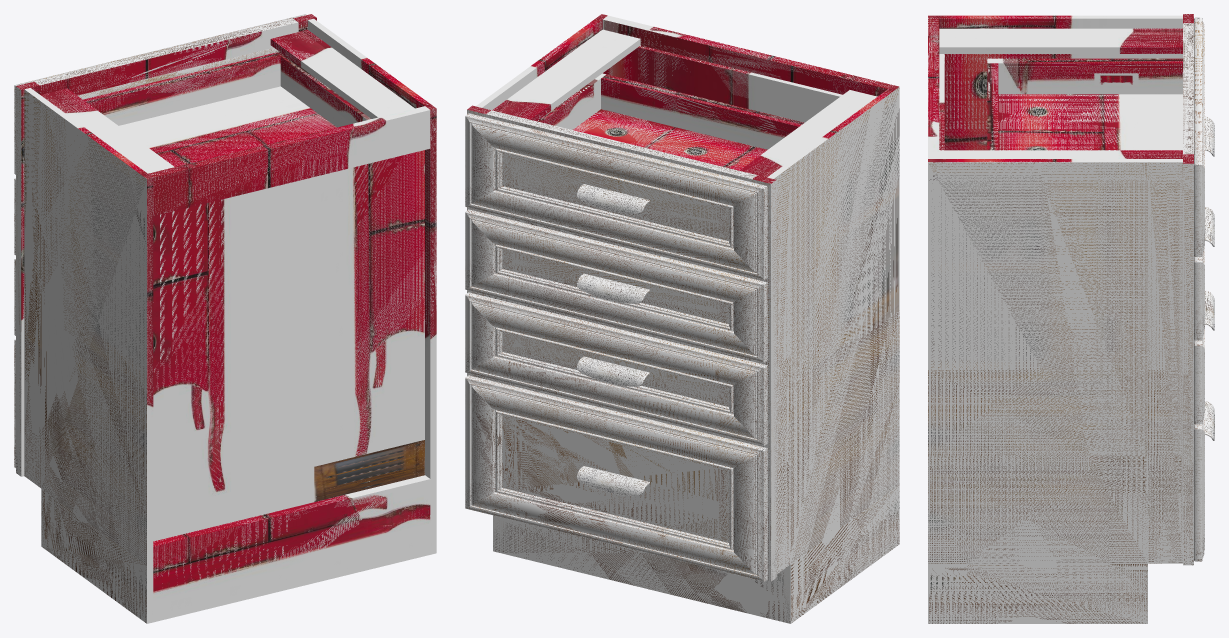
3 renders of one model, left to right at view 1: azimuth 30°, elevation 25°; view 2: azimuth 150°, elevation 25°; view 3: azimuth 270°, elevation 25°, orthographic. The views are drawn at different scales.
Visible parts, largest first — view 1: mesh4_mesh4-geometry, mesh7_mesh7-geometry, mesh12_mesh12-geometry, mesh3_mesh3-geometry, mesh19_mesh19-geometry, mesh6_mesh6-geometry, mesh8_mesh8-geometry, mesh17_mesh17-geometry, mesh10_mesh10-geometry, mesh5_mesh5-geometry, mesh14_mesh14-geometry, mesh32_mesh32-geometry (+4 smaller); view 2: mesh7_mesh7-geometry, mesh25_mesh25-geometry, mesh26_mesh26-geometry, mesh29_mesh29-geometry, mesh13_mesh13-geometry, mesh4_mesh4-geometry, mesh22_mesh22-geometry, mesh8_mesh8-geometry, mesh17_mesh17-geometry, mesh27_mesh27-geometry, mesh28_mesh28-geometry, mesh21_mesh21-geometry (+12 smaller); view 3: mesh10_mesh10-geometry, mesh9_mesh9-geometry, mesh11_mesh11-geometry, mesh19_mesh19-geometry, mesh7_mesh7-geometry, mesh16_mesh16-geometry, mesh15_mesh15-geometry, mesh2_mesh2-geometry, mesh14_mesh14-geometry, mesh21_mesh21-geometry, mesh3_mesh3-geometry, mesh27_mesh27-geometry (+8 smaller).
Part boxes in pixels (box(x1,y1,x2,y2)): mesh4_mesh4-geometry: box(153, 150, 424, 541); mesh7_mesh7-geometry: box(41, 100, 153, 565); mesh12_mesh12-geometry: box(153, 475, 430, 622); mesh3_mesh3-geometry: box(148, 106, 430, 215); mesh19_mesh19-geometry: box(119, 86, 336, 166); mesh6_mesh6-geometry: box(24, 88, 46, 487); mesh8_mesh8-geometry: box(41, 489, 153, 623); mesh17_mesh17-geometry: box(83, 52, 280, 125); mesh10_mesh10-geometry: box(324, 31, 436, 496); mesh5_mesh5-geometry: box(35, 18, 298, 95); mesh14_mesh14-geometry: box(270, 30, 414, 118); mesh32_mesh32-geometry: box(314, 440, 424, 501); mesh7_mesh7-geometry: box(785, 85, 899, 563); mesh25_mesh25-geometry: box(511, 125, 719, 468); mesh26_mesh26-geometry: box(511, 187, 718, 569); mesh29_mesh29-geometry: box(514, 157, 718, 537); mesh13_mesh13-geometry: box(499, 517, 784, 622); mesh4_mesh4-geometry: box(603, 45, 842, 122); mesh22_mesh22-geometry: box(715, 174, 767, 481); mesh8_mesh8-geometry: box(784, 485, 899, 623); mesh17_mesh17-geometry: box(601, 74, 804, 149); mesh27_mesh27-geometry: box(465, 146, 514, 488); mesh28_mesh28-geometry: box(718, 206, 767, 550); mesh21_mesh21-geometry: box(465, 113, 515, 418); mesh10_mesh10-geometry: box(928, 159, 1147, 563); mesh9_mesh9-geometry: box(1148, 159, 1182, 563); mesh11_mesh11-geometry: box(928, 563, 1147, 623); mesh19_mesh19-geometry: box(998, 94, 1182, 150); mesh7_mesh7-geometry: box(928, 15, 1147, 150); mesh16_mesh16-geometry: box(987, 58, 1182, 94); mesh15_mesh15-geometry: box(939, 28, 1182, 53); mesh2_mesh2-geometry: box(1183, 14, 1193, 565); mesh14_mesh14-geometry: box(939, 150, 1182, 158); mesh21_mesh21-geometry: box(1194, 141, 1204, 460); mesh3_mesh3-geometry: box(928, 18, 939, 158); mesh27_mesh27-geometry: box(1194, 191, 1204, 530).
Size of the model in its own units: 0.5184 by 0.7452 by 0.4193.
